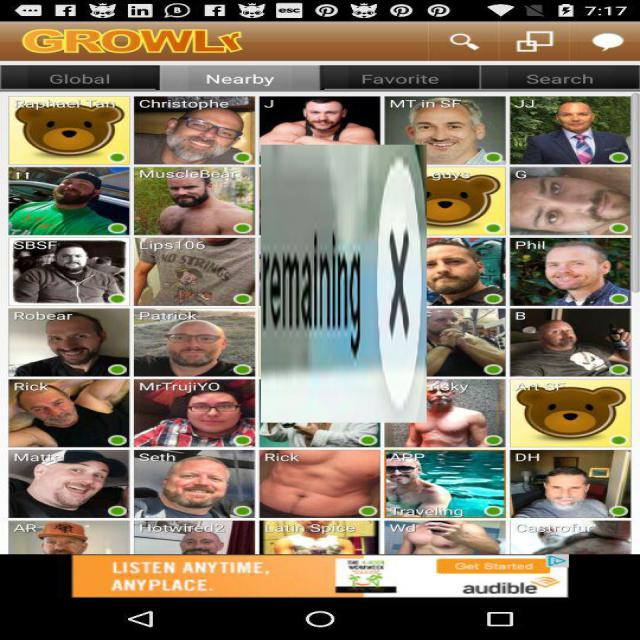misdirection: (260, 144, 427, 422)
